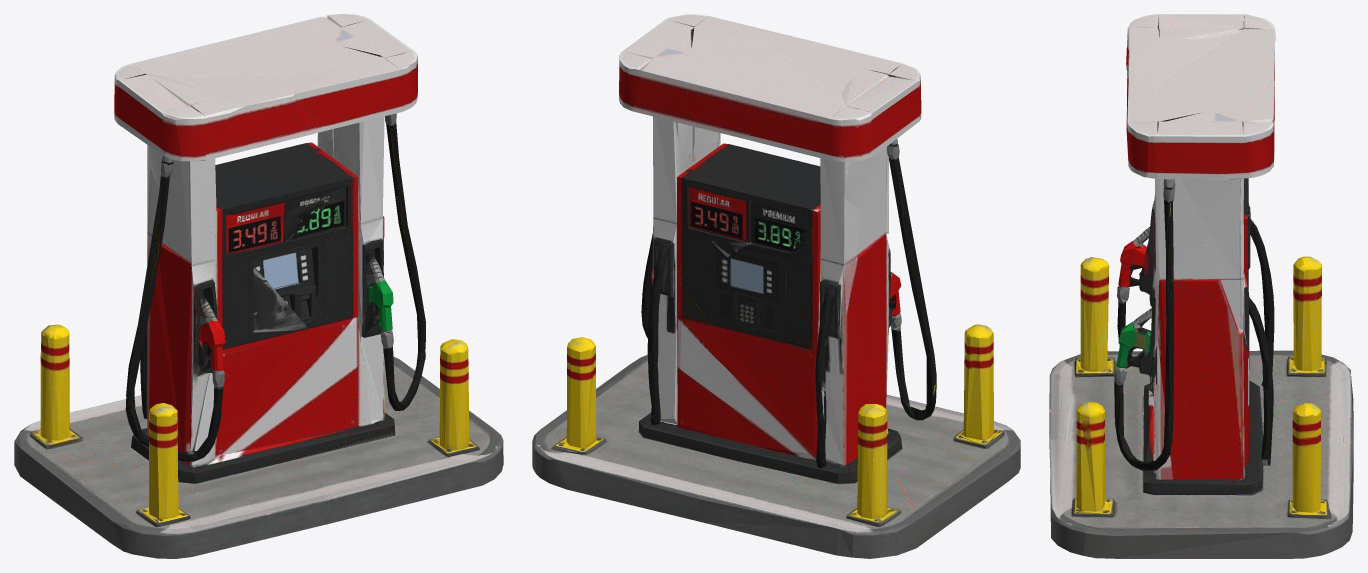
The model's file is gas_pump.glb.
3 views of the same model, side by side, from view 1: azimuth 30°, elevation 25°; view 2: azimuth 150°, elevation 25°; view 3: azimuth 270°, elevation 25° (orthographic).
Size of the model in its own units: 1.9 by 1.9 by 1.33.
Materials: 1 (1 with a texture image).
